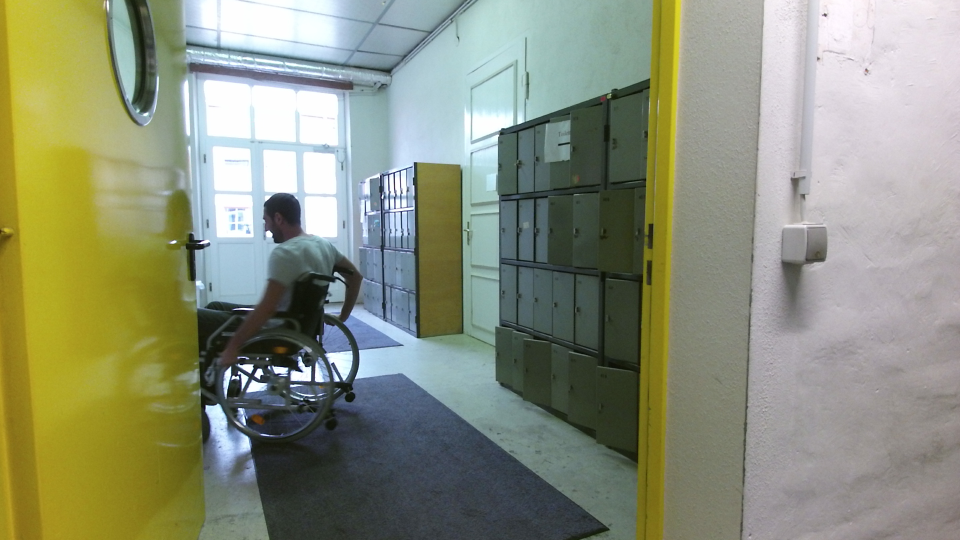wheelchair: (194, 184, 370, 455)
